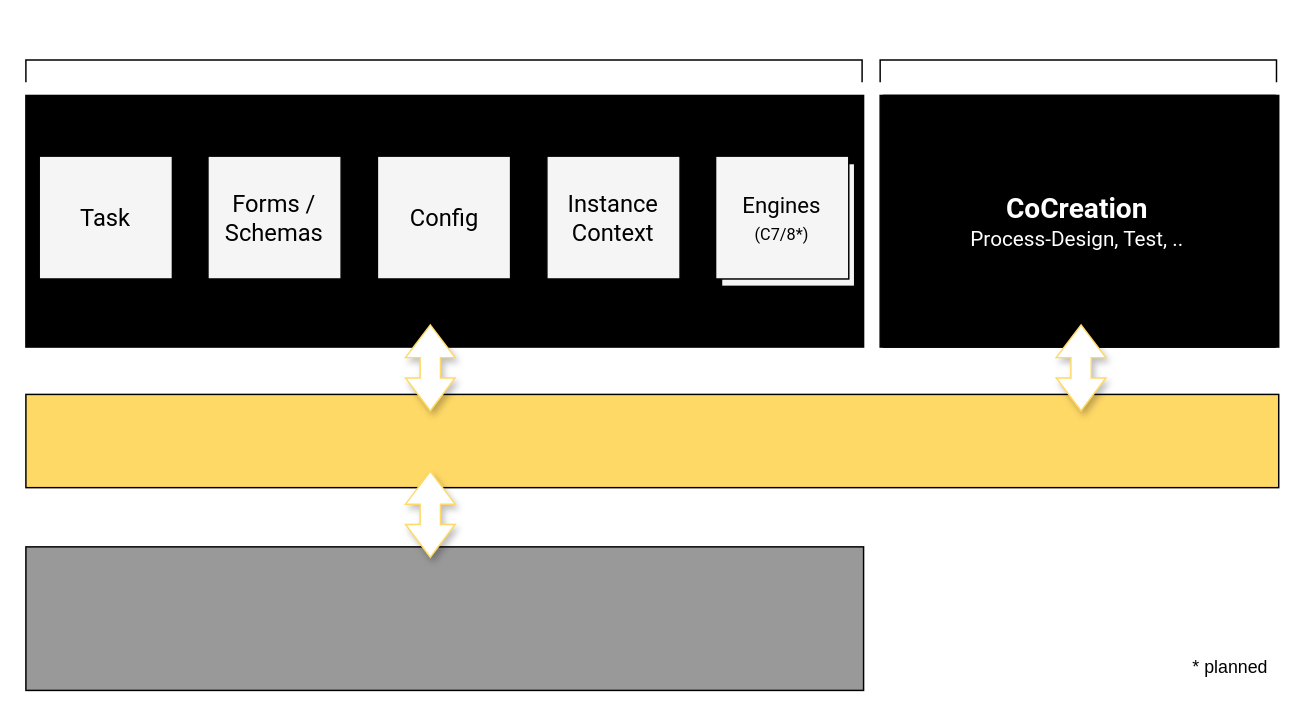
Image size: 1305x716. Some labels were removed from this diagram. Here are the shapes that lost their labels. From the top down, the centre of each, then its label:
At pixel 443 70: "run".
At pixel 1077 70: "build".
At pixel 651 440: "Event Bus Topics for communication between components".
At pixel 444 617: "Application Integration Layer External-Services, Legacy Systems ...".
